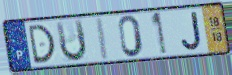0: (117, 15, 144, 59)
1: (150, 10, 169, 57)
D: (26, 23, 57, 66)
I: (94, 16, 111, 62)
J: (180, 10, 203, 52)
U: (54, 18, 89, 64)
